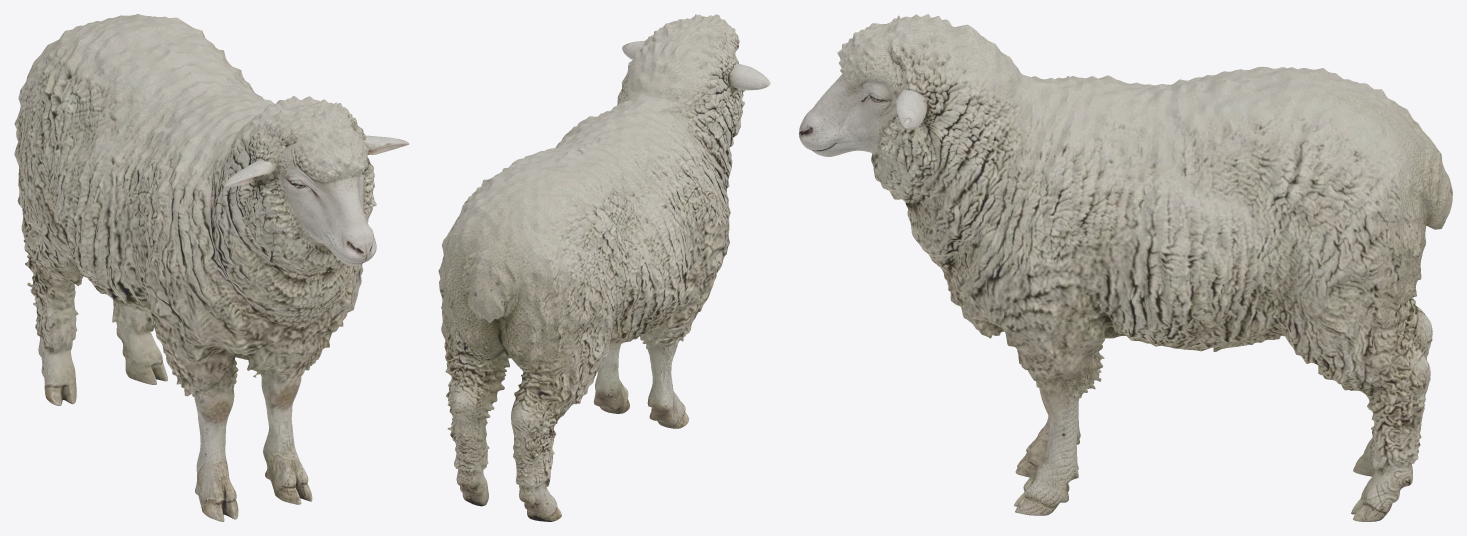
The model's file is Sheep object.glb.
3 renders of one model, left to right at view 1: azimuth 30°, elevation 25°; view 2: azimuth 150°, elevation 25°; view 3: azimuth 270°, elevation 25°, orthographic. The views are drawn at different scales.
Visible parts, largest first — view 1: tripo_node_48508db3-8f97-4275-b5d7-cc36cce38b1a; view 2: tripo_node_48508db3-8f97-4275-b5d7-cc36cce38b1a; view 3: tripo_node_48508db3-8f97-4275-b5d7-cc36cce38b1a.
Part boxes in pixels (left/top/right/bottom): tripo_node_48508db3-8f97-4275-b5d7-cc36cce38b1a: left=14, top=14, right=409, bottom=521; tripo_node_48508db3-8f97-4275-b5d7-cc36cce38b1a: left=438, top=14, right=770, bottom=521; tripo_node_48508db3-8f97-4275-b5d7-cc36cce38b1a: left=799, top=14, right=1452, bottom=521.
Size of the model in its own units: 0.4283 by 0.7939 by 1.
Materials: 1 (1 with a texture image).
